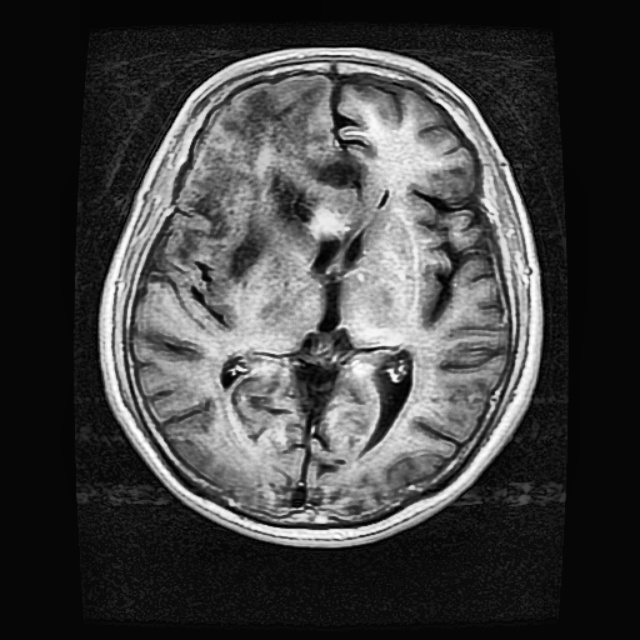Glioma: (175, 79, 367, 302)
